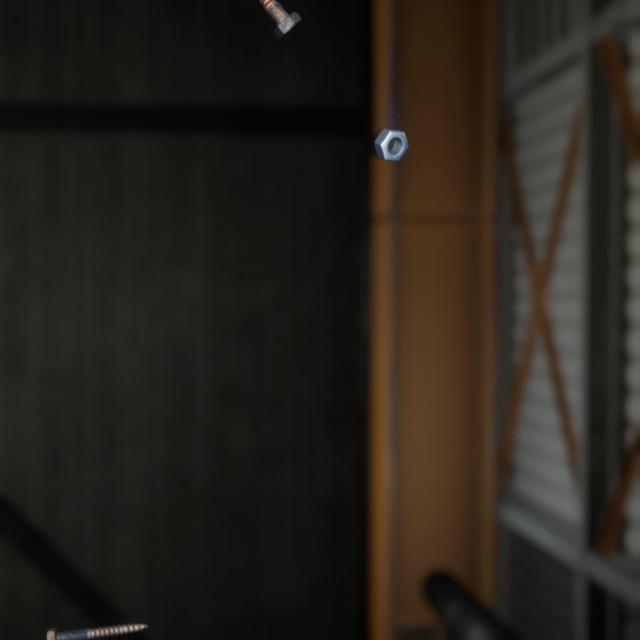bolt: (42, 594, 152, 631), (258, 0, 306, 35)
nut: (369, 111, 412, 153)
